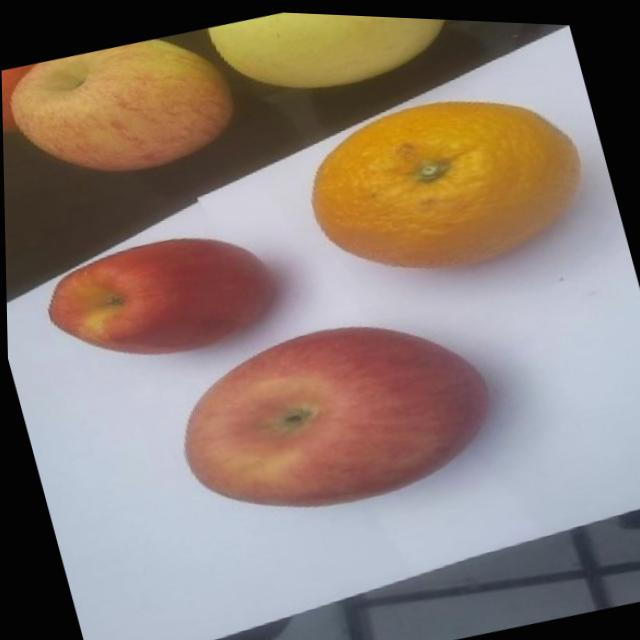Apple: (157, 286, 510, 543), (0, 17, 247, 201), (34, 210, 289, 385), (1, 62, 52, 150)
Orange: (290, 62, 602, 299)
